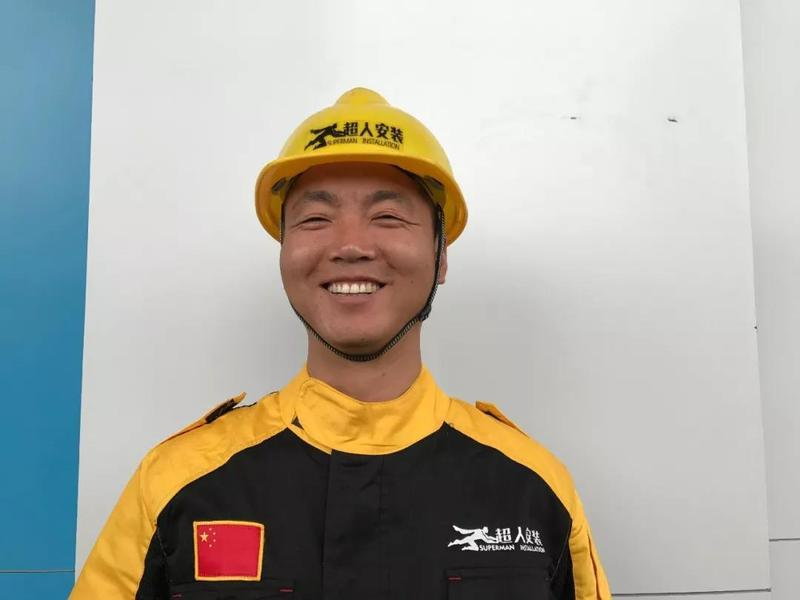helmet: (242, 86, 469, 238)
